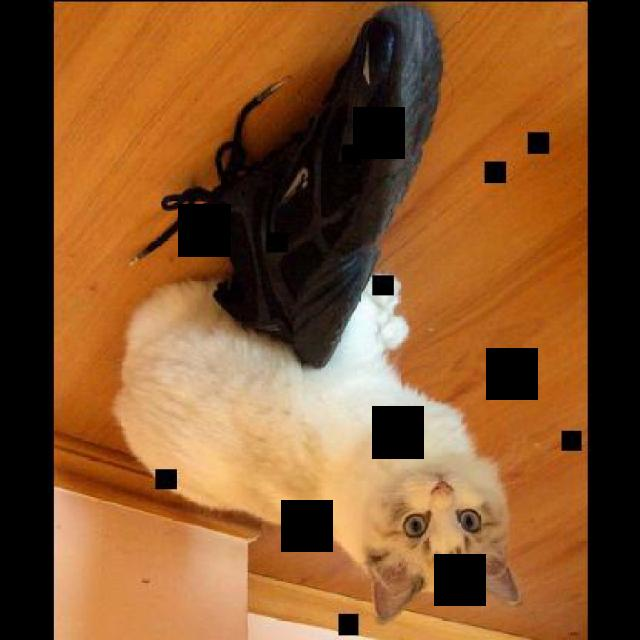unauthorized: (109, 273, 522, 622)
